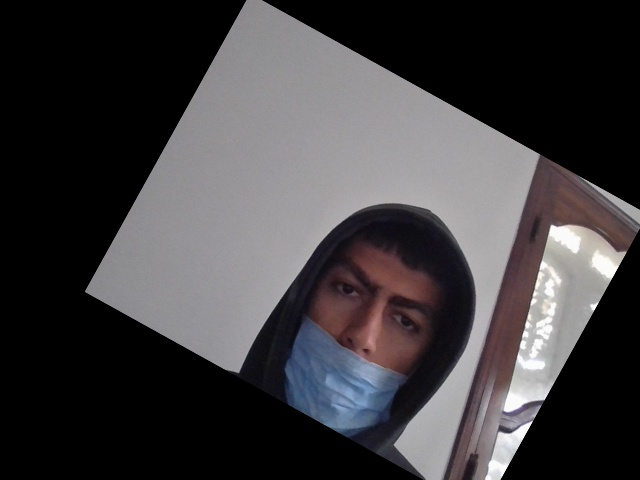mask_weared_incorrect: (281, 205, 435, 435)
